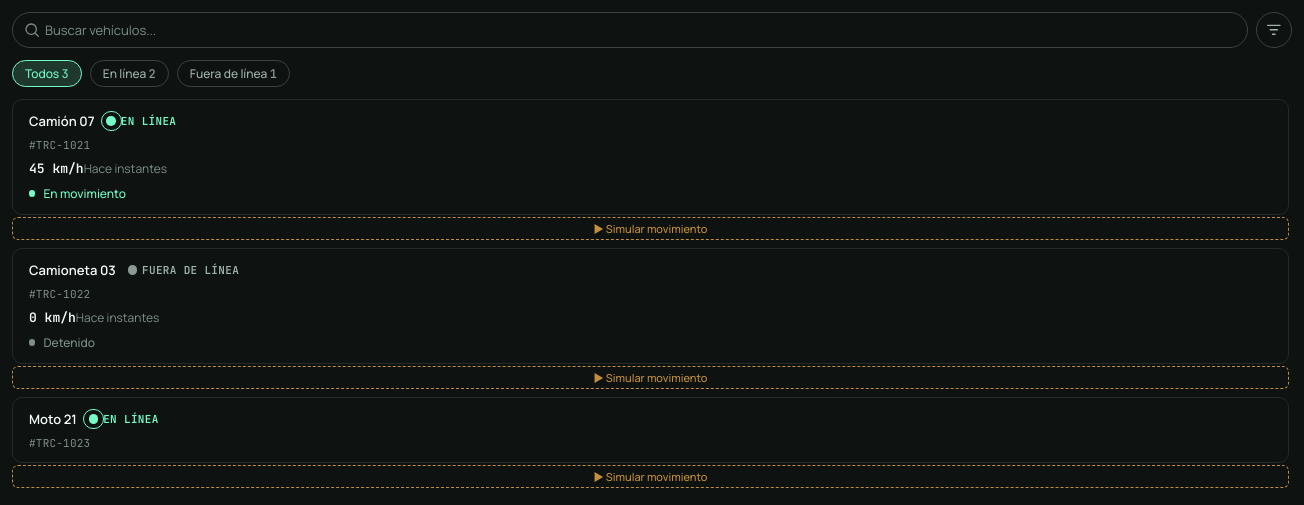
Scenario: <DeviceListPanel /> › una búsqueda sin resultados muestra un mensaje distinto al de 'cuenta sin vehículos'
The image size is (1304, 505).
In the search field labelled "Buscar vehículos": (630, 30) [12,12,1248,48], type "no-existe-este-vehiculo"
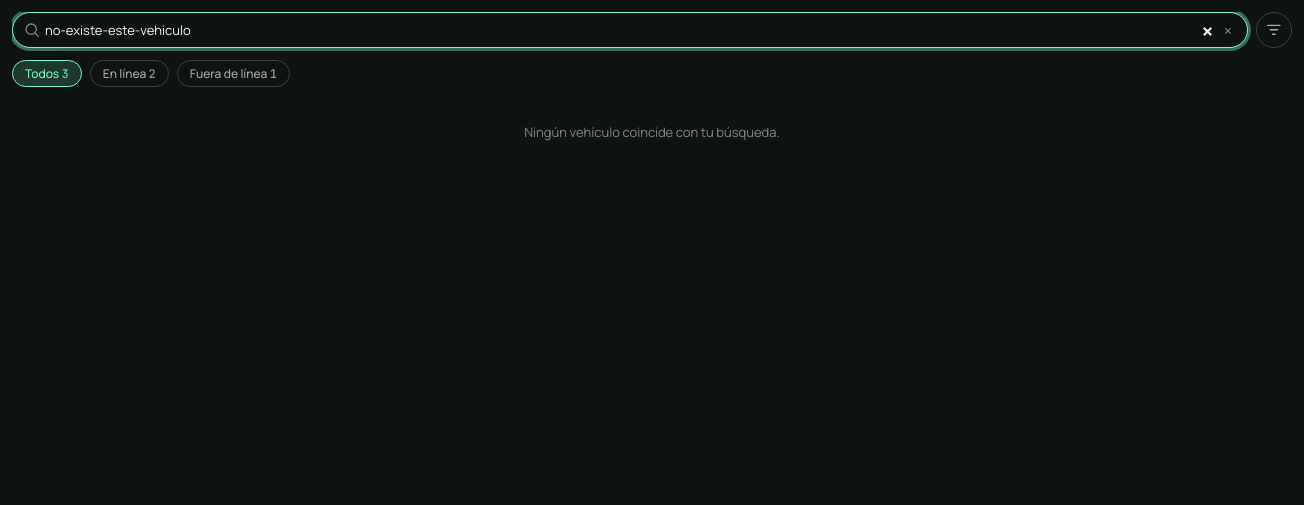
Now the text "Ningún vehículo coincide con tu búsqueda." is shown, box [524,123,780,141]
